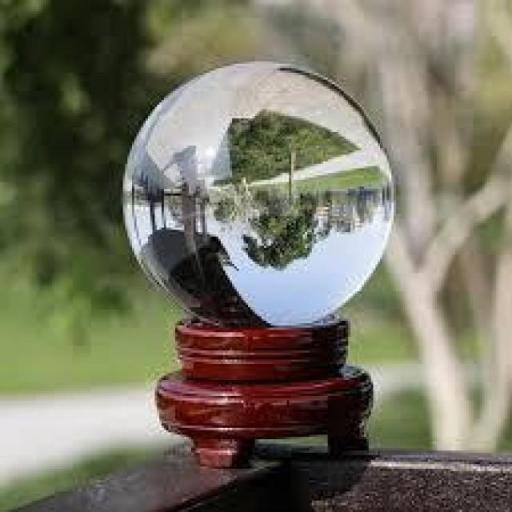glass: (104, 52, 414, 344)
